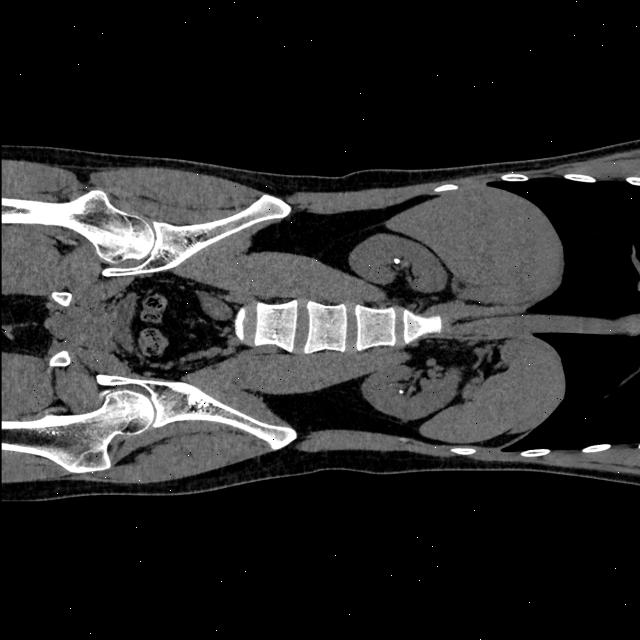kidneystone: (389, 382, 421, 399), (393, 258, 401, 265)
